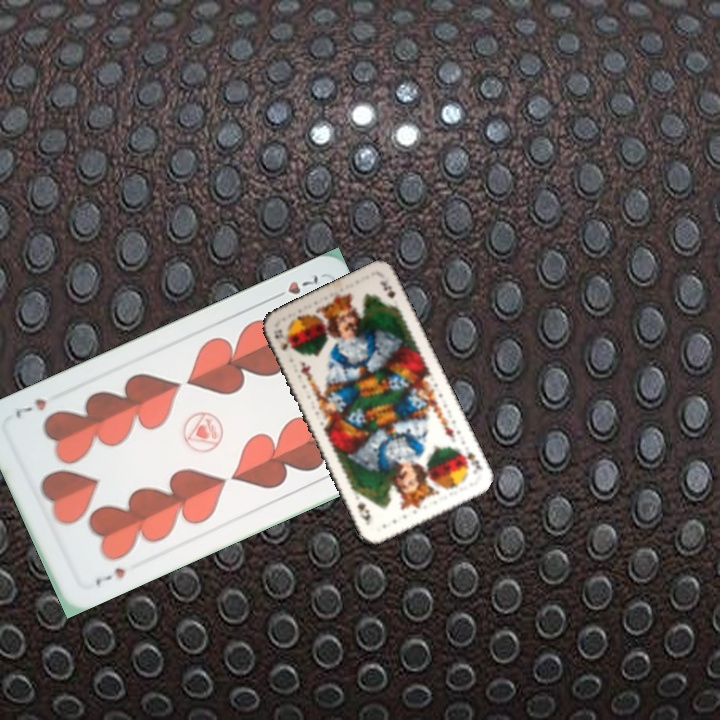H7: (268, 270, 321, 303), (91, 563, 128, 588)
SK: (456, 445, 485, 472), (270, 325, 295, 353)
